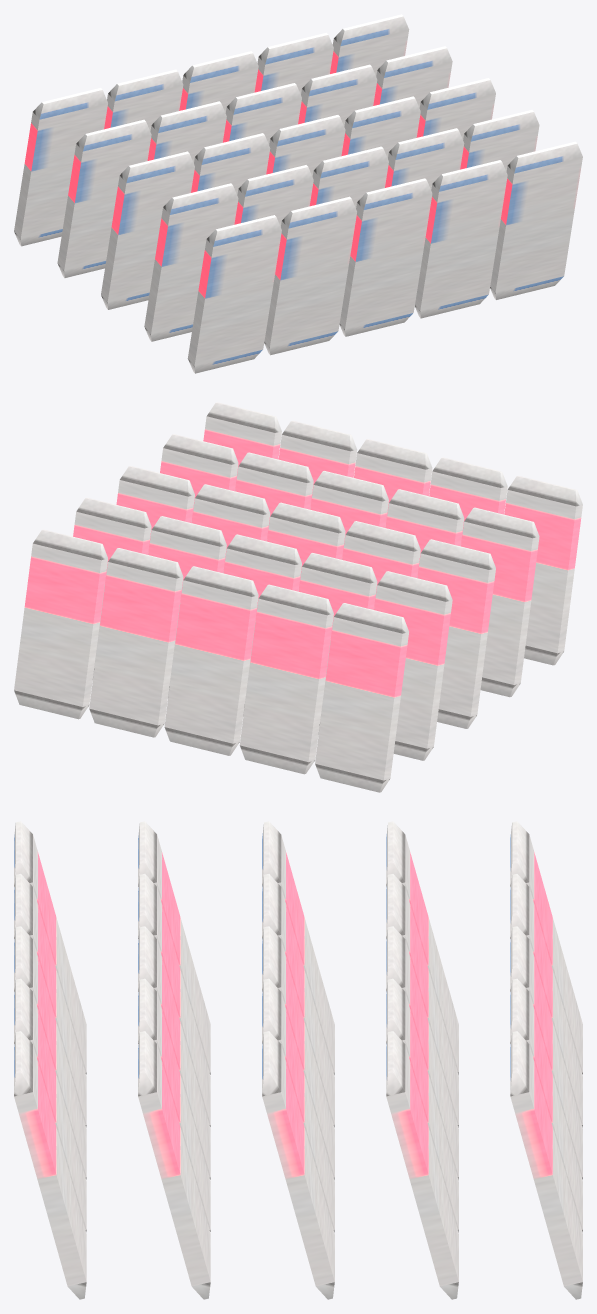
Rendered from Chocolate_bar.fbx.
The picture shows the model from 3 angles, top to bottom: view 1: azimuth 30°, elevation 25°; view 2: azimuth 150°, elevation 25°; view 3: azimuth 270°, elevation 25°; orthographic projection. The views are drawn at different scales.
Visible parts, largest first — view 1: Chocolate_Bars_chocolate_bar6; view 2: Chocolate_Bars_chocolate_bar6; view 3: Chocolate_Bars_chocolate_bar6.
Boxes of the visible parts, box(x1,y1,x2,y2) form: Chocolate_Bars_chocolate_bar6: box(14, 14, 582, 373); Chocolate_Bars_chocolate_bar6: box(14, 402, 582, 792); Chocolate_Bars_chocolate_bar6: box(14, 821, 582, 1299).
Size of the model in its own units: 58.96 by 24.28 by 55.03.
